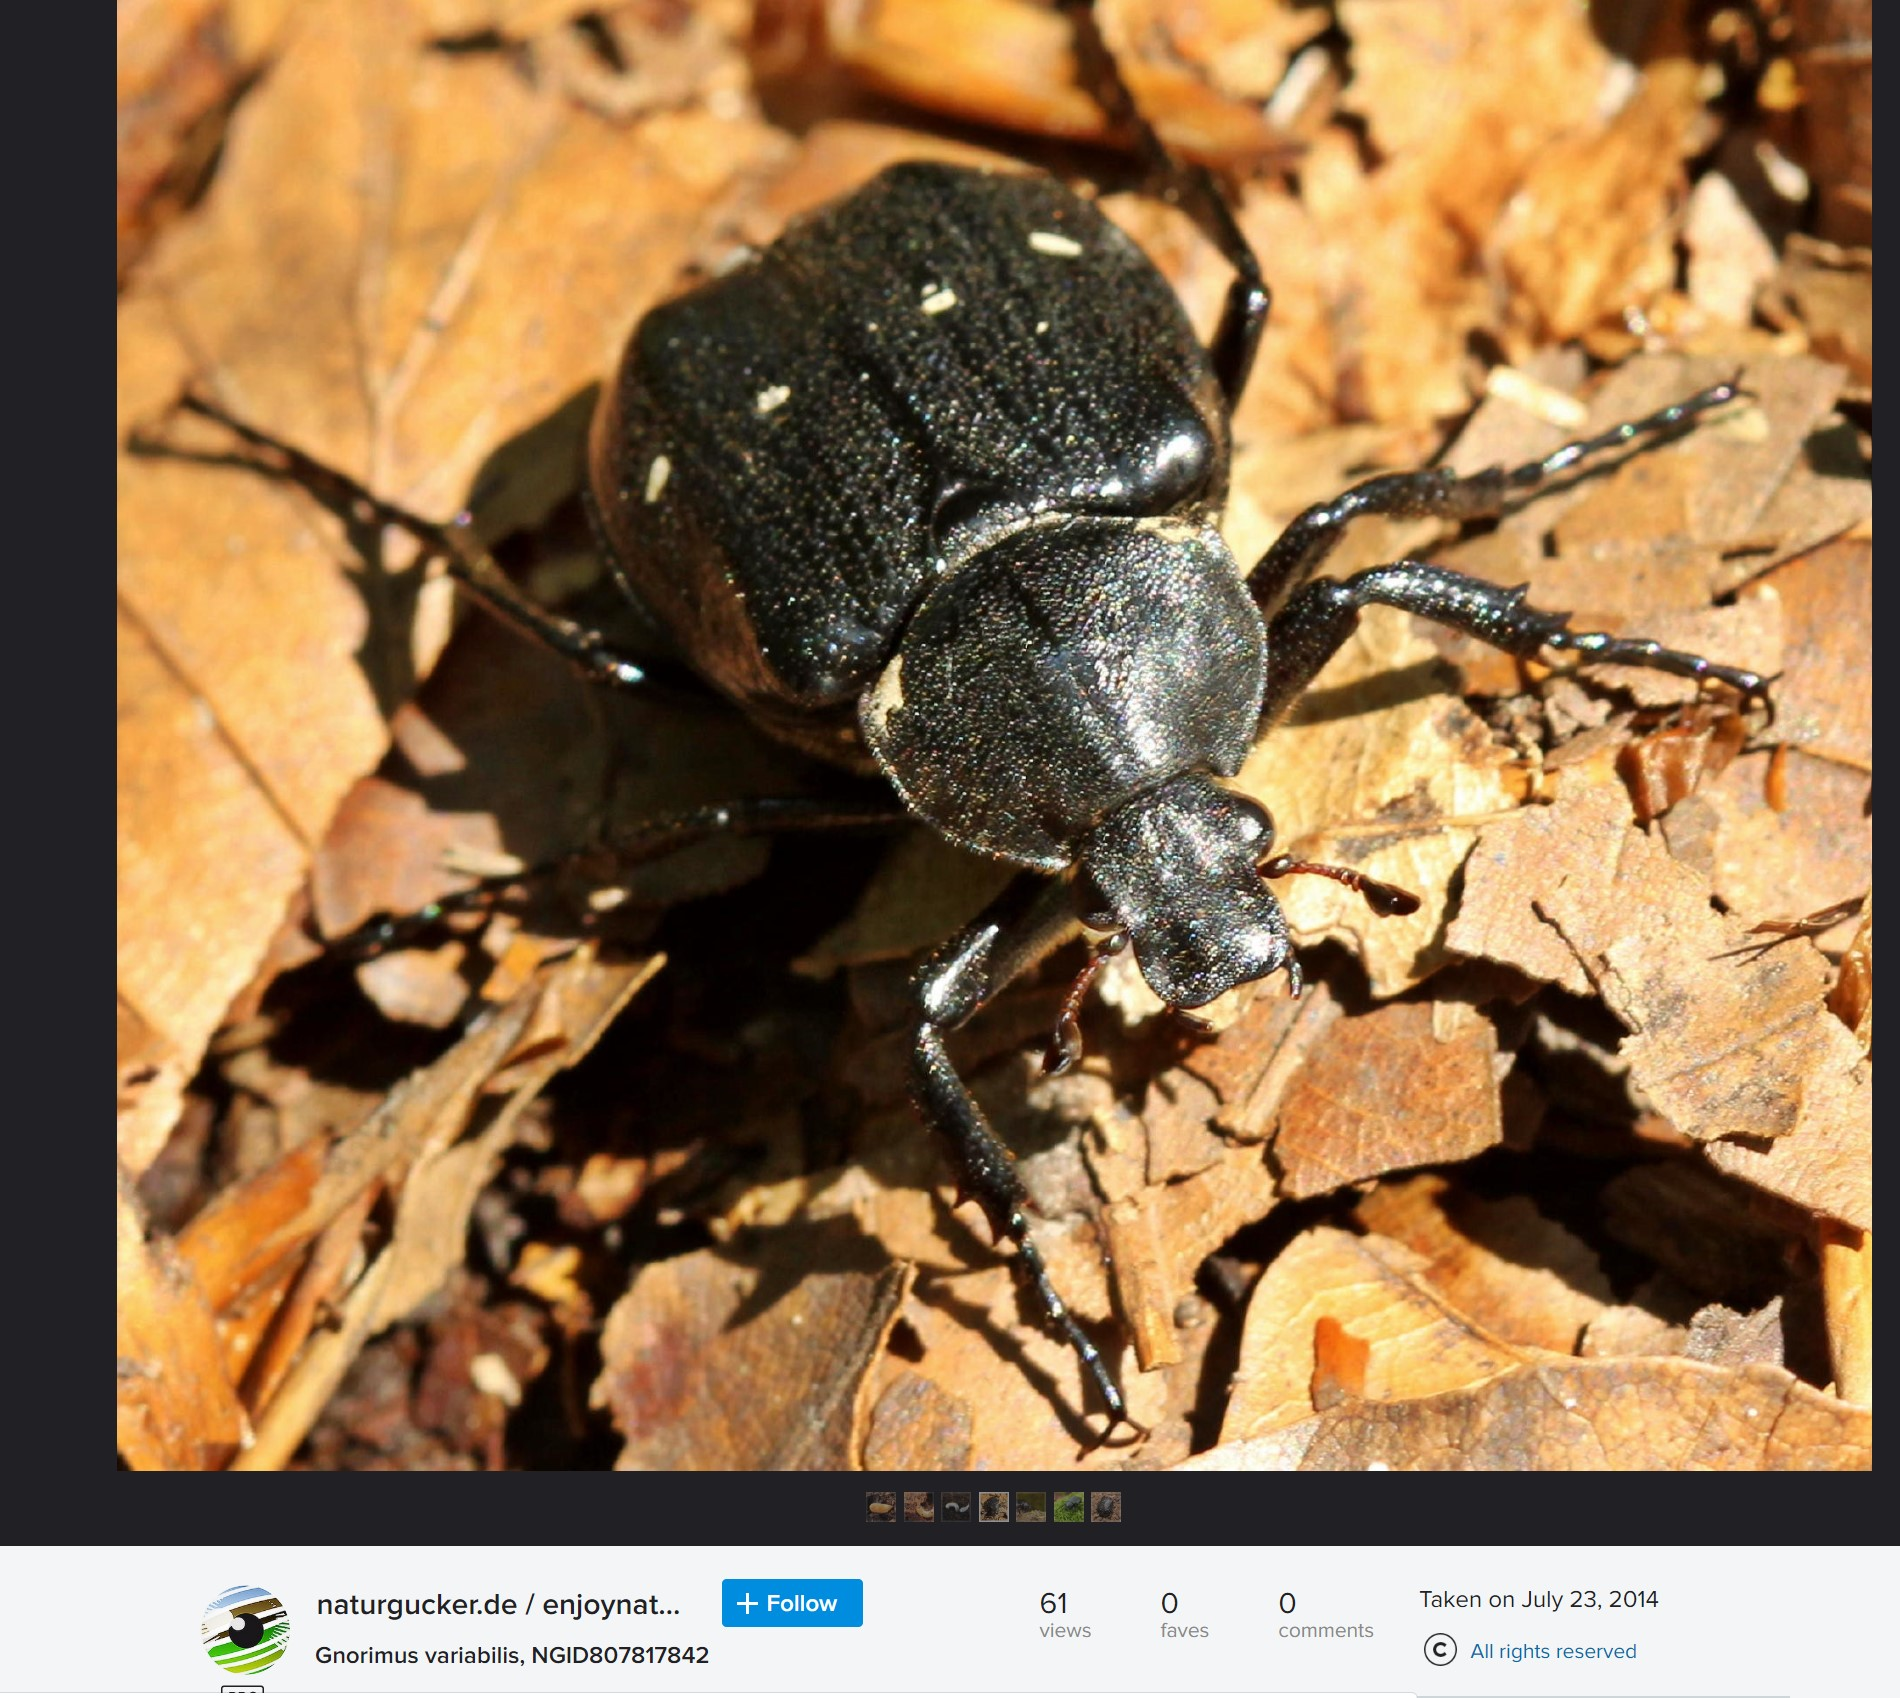Gnorimus_variabilis: (138, 93, 1793, 1390)
